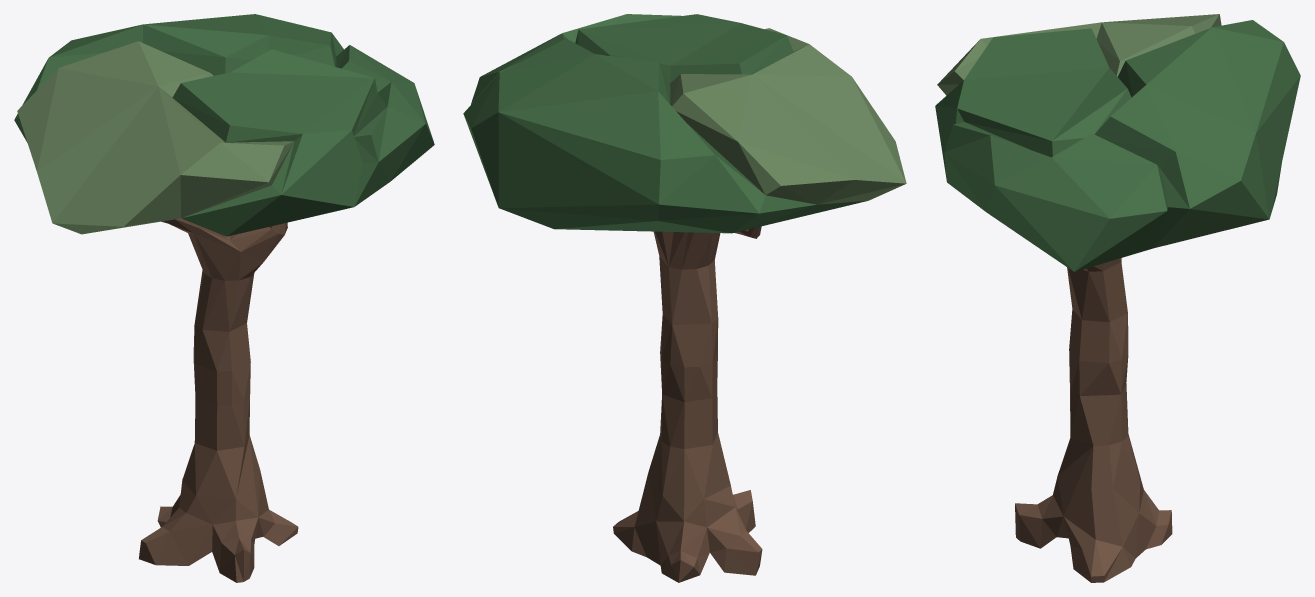
The model's file is _tree_15.fbx.
3 renders of one model, left to right at view 1: azimuth 30°, elevation 25°; view 2: azimuth 150°, elevation 25°; view 3: azimuth 270°, elevation 25°, orthographic. The views are drawn at different scales.
Visible parts, largest first — view 1: tree_15; view 2: tree_15; view 3: tree_15.
Boxes of the visible parts, bbox=[...] form: tree_15: bbox=[14, 14, 434, 582]; tree_15: bbox=[463, 14, 906, 582]; tree_15: bbox=[935, 14, 1300, 582].
Size of the model in its own units: 826 by 990 by 647.
